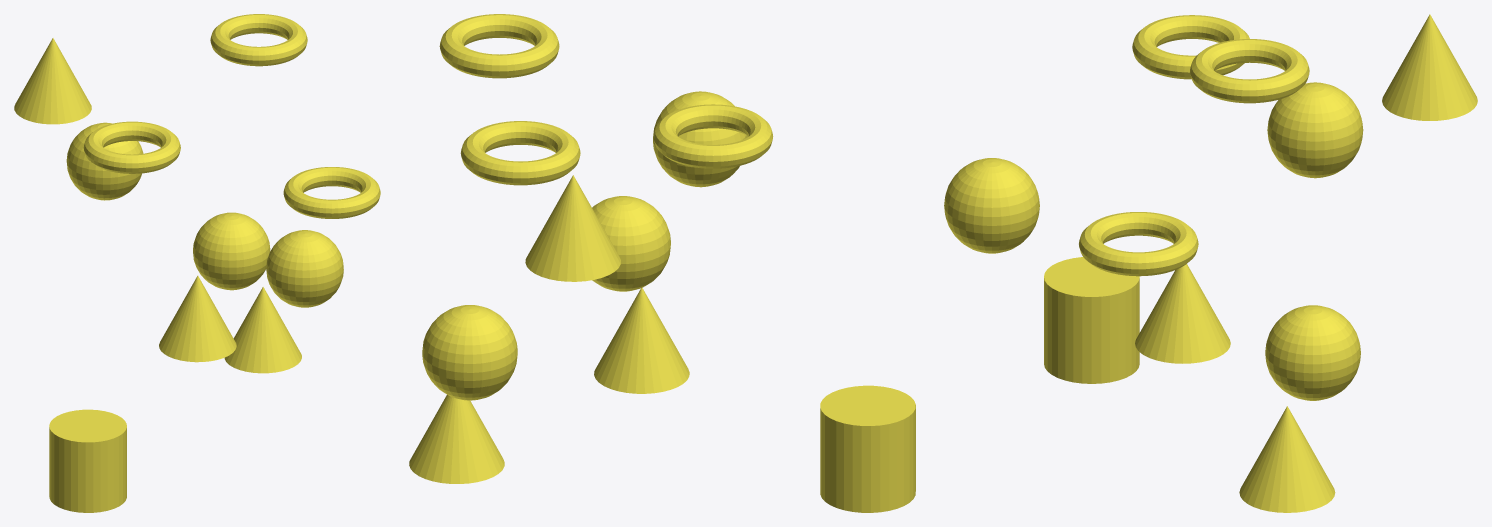
Rendered from sculpture.glb.
The picture shows the model from 3 angles, left to right: view 1: azimuth 30°, elevation 25°; view 2: azimuth 150°, elevation 25°; view 3: azimuth 270°, elevation 25°; orthographic projection. The views are drawn at different scales.
Visible parts, largest first — view 1: Sphere; view 2: Sphere; view 3: Sphere.
Boxes of the visible parts, x1=… form: Sphere: x1=14, y1=14, x2=380, y2=512; Sphere: x1=409, y1=14, x2=915, y2=512; Sphere: x1=944, y1=14, x2=1477, y2=512.
Size of the model in its own units: 10.05 by 10.24 by 11.13.
